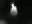person: (10, 3, 19, 18)
